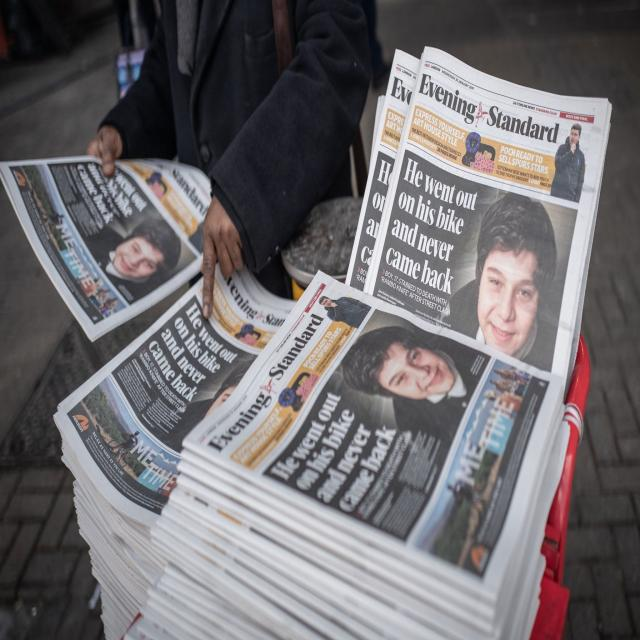newspaper: (62, 262, 548, 640), (352, 43, 602, 377), (6, 146, 220, 327)
